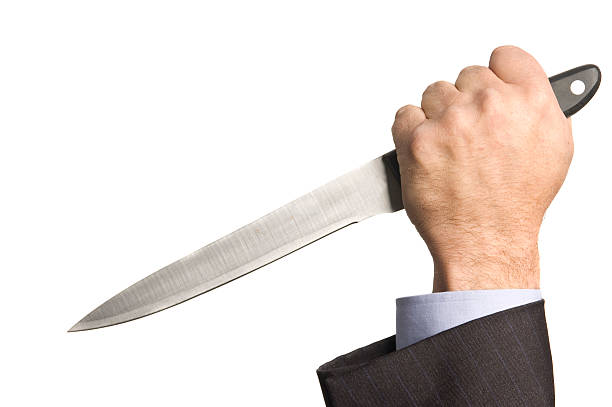knife: (66, 63, 603, 334)
